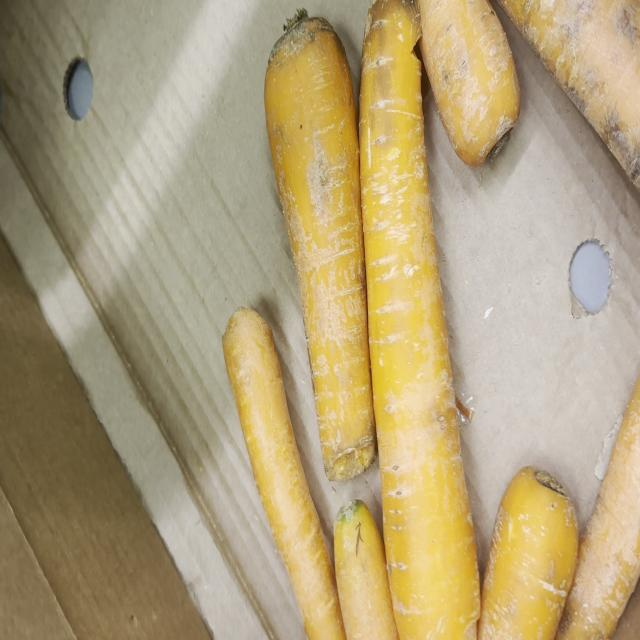carrot: (359, 0, 480, 638), (264, 9, 376, 481), (222, 309, 345, 640), (556, 375, 640, 640), (479, 465, 579, 640), (419, 0, 520, 165), (334, 501, 399, 640)
